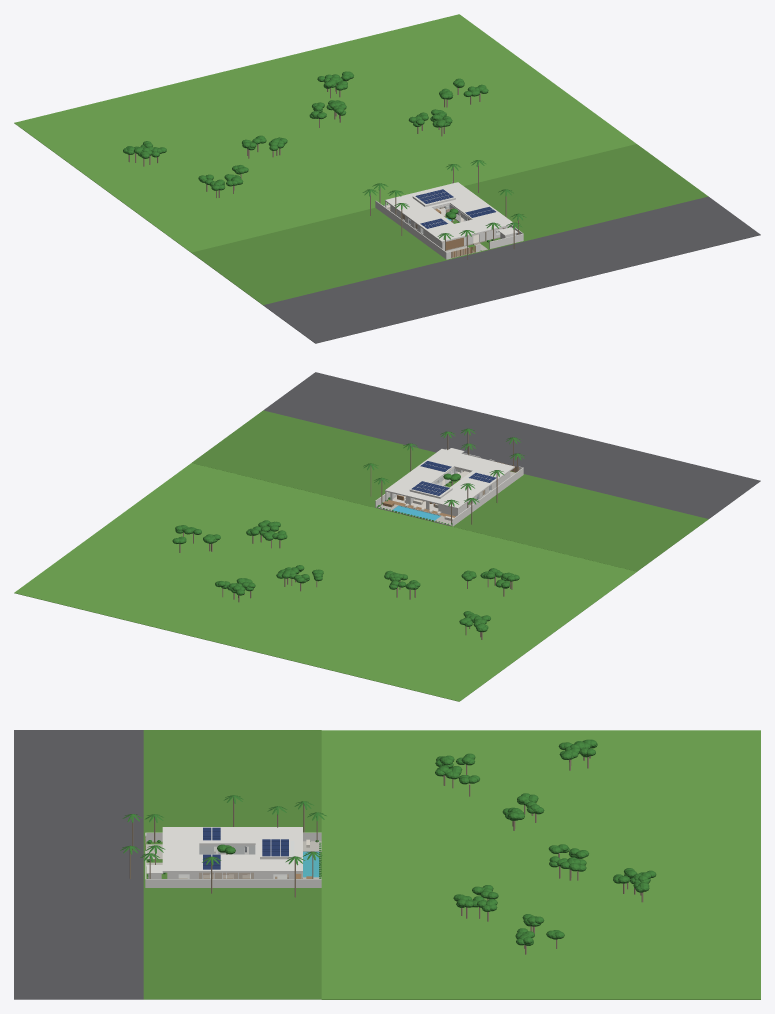
The model's file is house.glb.
3 views of the same model, one above another, from view 1: azimuth 30°, elevation 25°; view 2: azimuth 150°, elevation 25°; view 3: azimuth 270°, elevation 25° (orthographic). The views are drawn at different scales.
Visible parts, largest first — view 1: golf, street, neighbour_L, neighbour_R, roof, roof.003, verge, COL_pwallW, roof.001; view 2: golf, street, neighbour_L, neighbour_R, roof, roof.003, COL_pwallW; view 3: golf, street, neighbour_R, neighbour_L, roof, COL_pwallE, roof.003, roof.001, roof.002, verge.
Boxes of the visible parts, x1=… form: golf: x1=14, y1=14, x2=636, y2=252; street: x1=263, y1=196, x2=760, y2=343; neighbour_L: x1=191, y1=207, x2=445, y2=304; neighbour_R: x1=464, y1=144, x2=707, y2=240; roof: x1=427, y1=213, x2=513, y2=242; roof.003: x1=385, y1=182, x2=476, y2=214; verge: x1=262, y1=196, x2=708, y2=305; COL_pwallW: x1=375, y1=200, x2=446, y2=259; roof.001: x1=404, y1=207, x2=453, y2=231; golf: x1=14, y1=463, x2=636, y2=701; street: x1=263, y1=372, x2=760, y2=518; neighbour_L: x1=453, y1=475, x2=707, y2=571; neighbour_R: x1=192, y1=411, x2=434, y2=507; roof: x1=427, y1=449, x2=514, y2=478; roof.003: x1=385, y1=476, x2=477, y2=508; COL_pwallW: x1=452, y1=467, x2=523, y2=526; golf: x1=321, y1=730, x2=760, y2=999; street: x1=14, y1=730, x2=143, y2=999; neighbour_R: x1=145, y1=888, x2=321, y2=999; neighbour_L: x1=145, y1=730, x2=321, y2=832; roof: x1=162, y1=827, x2=199, y2=872; COL_pwallE: x1=145, y1=879, x2=321, y2=887; roof.003: x1=255, y1=827, x2=302, y2=872; roof.001: x1=199, y1=827, x2=255, y2=844; roof.002: x1=199, y1=854, x2=255, y2=872; verge: x1=143, y1=730, x2=145, y2=999.
Bounding box in the file's own units: 145 × 11.61 × 170.
